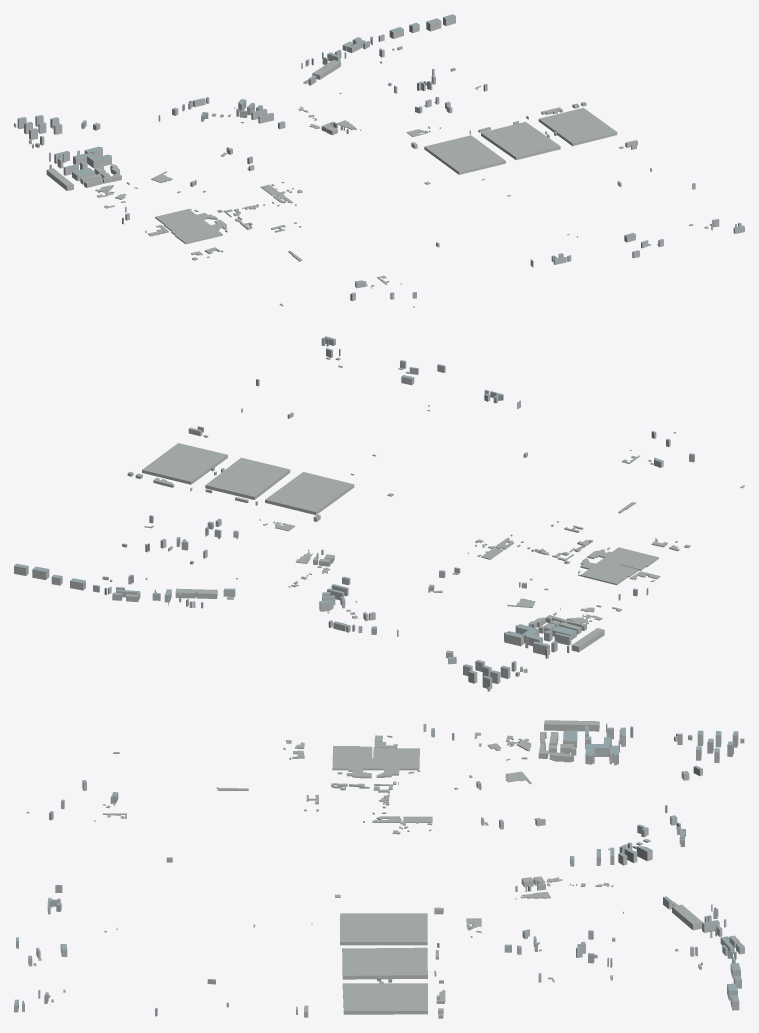
Rendered from far.glb.
The picture shows the model from 3 angles, top to bottom: view 1: azimuth 30°, elevation 25°; view 2: azimuth 150°, elevation 25°; view 3: azimuth 270°, elevation 25°; orthographic projection. The views are drawn at different scales.
Size of the model in its own units: 1791 by 34.6 by 1892.
